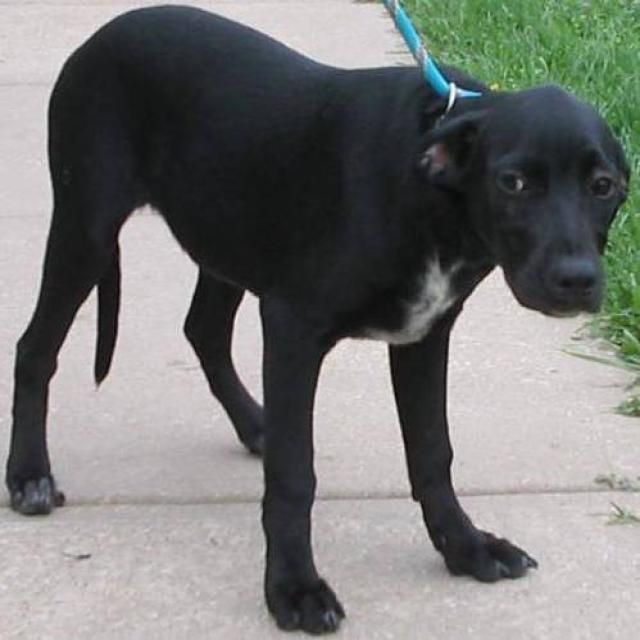Dog: (407, 89, 638, 322)
